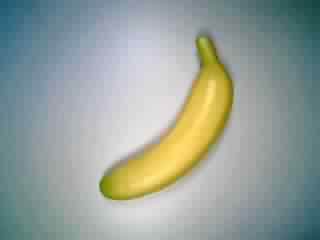banana: (96, 33, 240, 207)
